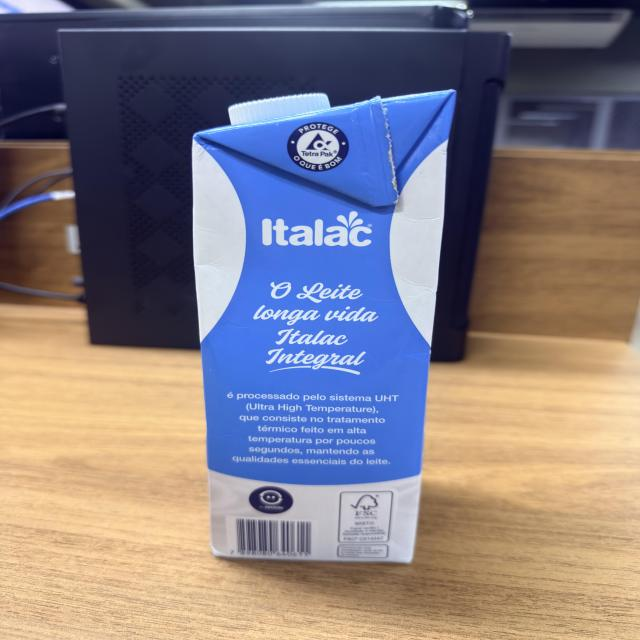Caixa de Leite: (192, 91, 452, 567)
